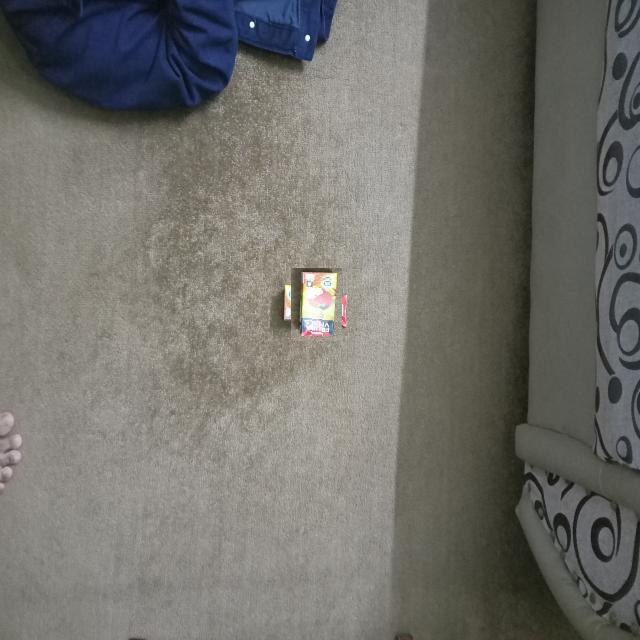Plastic: (285, 274, 348, 336)
